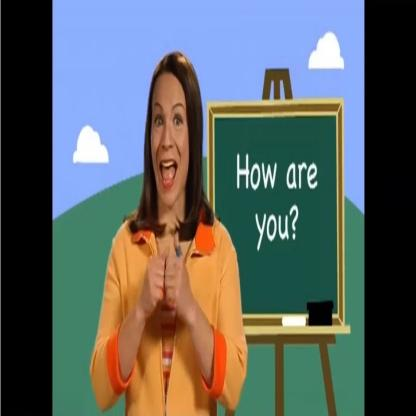HowAreYou: (117, 226, 215, 350)
